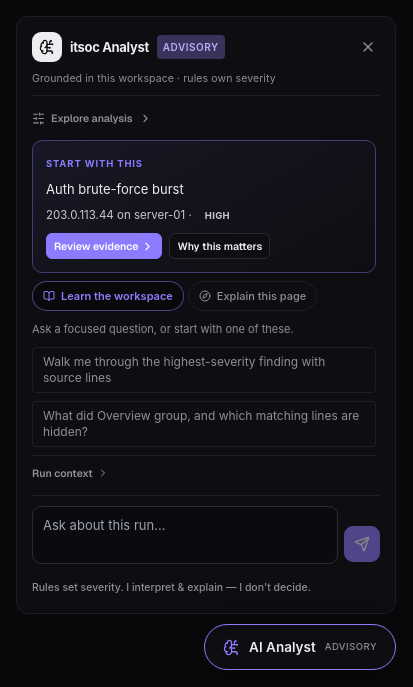
CB-1 — learned second opinion in the copilot rail › renders agreement, when stored, as agreement — and never as an override
The width and height of the screenshot is (413, 687).
Type "What does the learned model say about inc-2c97?" into the text box at (185, 535), box [32,506,338,564]
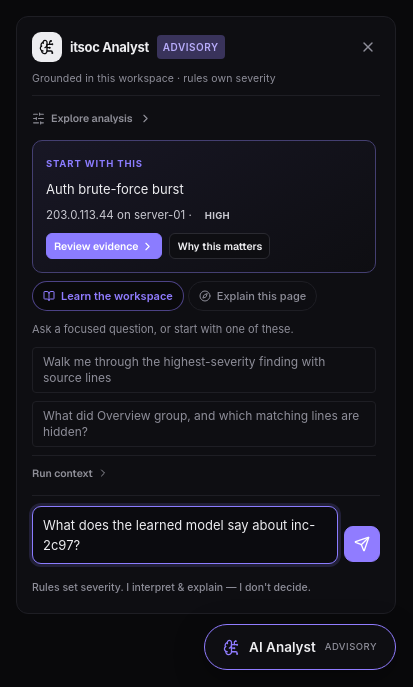
Click the button named "send" at (362, 544), box [344,526,380,562]
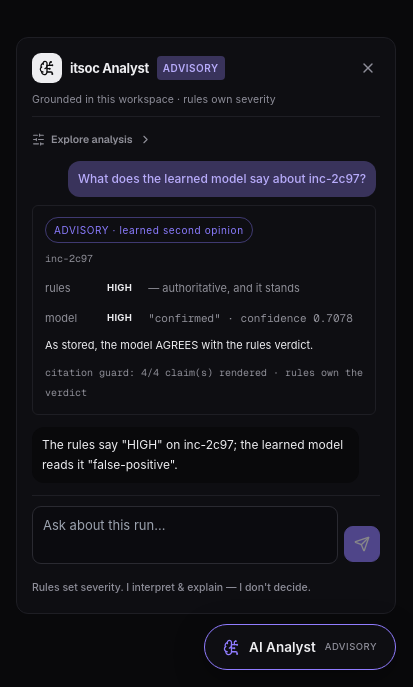
Check: the text with test id "copilot-learned-agreement" shows "model AGREES with the rules verdict", box [45,338,313,352]
